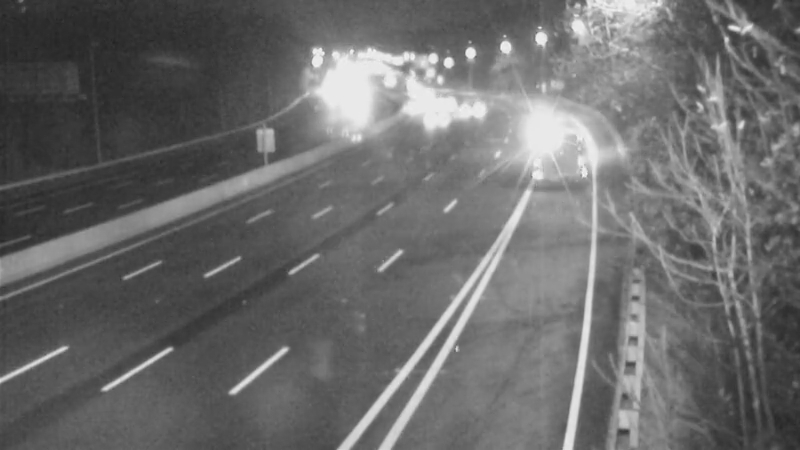vehicle: (506, 113, 586, 193), (397, 80, 447, 130), (443, 88, 493, 138), (417, 86, 467, 136)
